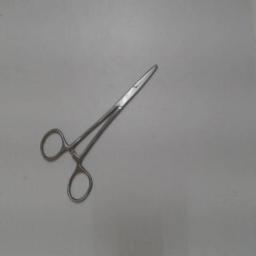Mayo Needle Holder: (38, 52, 168, 208)
